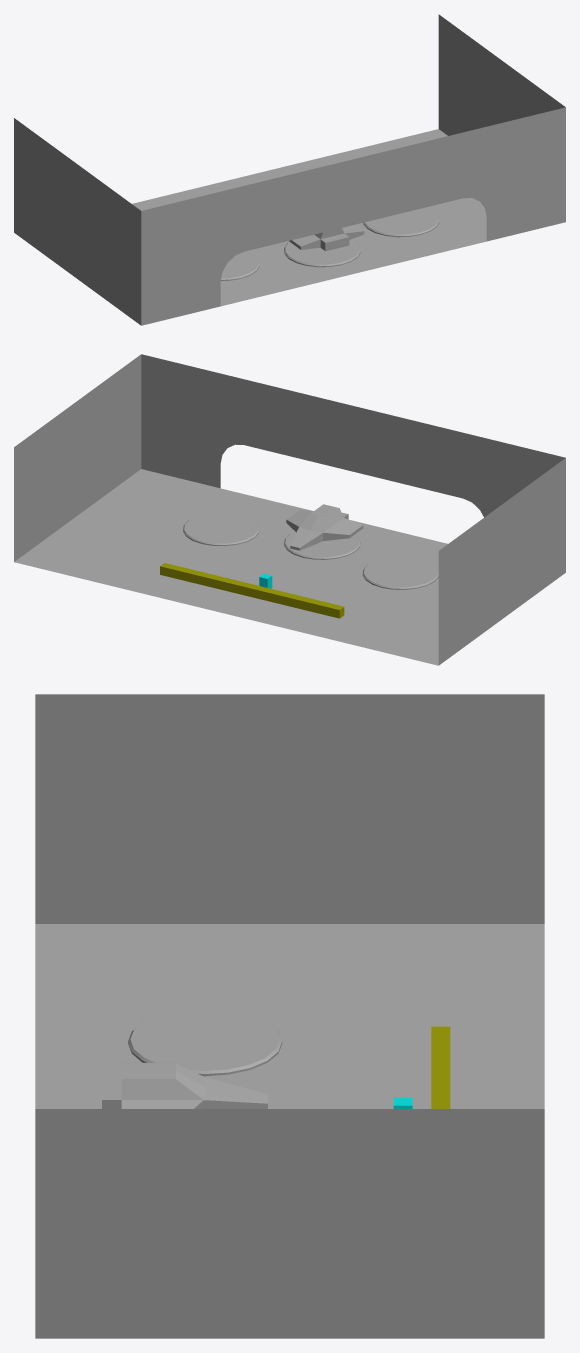
Rendered from Hangar_Blockout.fbx.
3 views of the same model, one above another, from view 1: azimuth 30°, elevation 25°; view 2: azimuth 150°, elevation 25°; view 3: azimuth 270°, elevation 25° (orthographic). The views are drawn at different scales.
Parts seen in each view (by area): view 1: hangar_entrance, walls, platform2, platform1, basic_ship, platform3; view 2: walls, hangar_entrance, stand, basic_ship, platform2, platform3, platform1; view 3: walls, platform3, basic_ship, stand.
Boxes of the visible parts, <box> form: hangar_entrance: <box>141,107,565,325</box>; walls: <box>14,14,565,325</box>; platform2: <box>363,207,439,237</box>; platform1: <box>284,239,360,267</box>; basic_ship: <box>289,225,364,251</box>; platform3: <box>221,251,259,280</box>; walls: <box>14,354,565,665</box>; hangar_entrance: <box>141,354,565,517</box>; stand: <box>160,563,344,618</box>; basic_ship: <box>286,504,363,550</box>; platform2: <box>183,512,259,546</box>; platform3: <box>362,556,438,589</box>; platform1: <box>284,531,360,559</box>; walls: <box>35,694,544,1338</box>; platform3: <box>128,1008,282,1076</box>; basic_ship: <box>102,1062,267,1108</box>; stand: <box>431,1026,450,1108</box>.
Size of the model in its own units: 5200 by 1344 by 2700.
